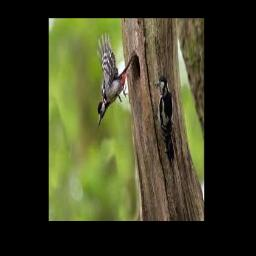Woodpecker: (97, 32, 133, 125), (154, 75, 174, 165)
